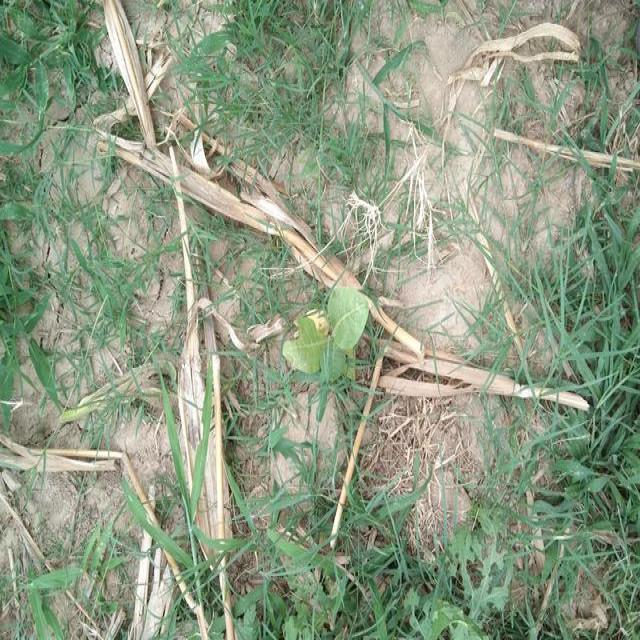crop: (278, 272, 382, 389)
